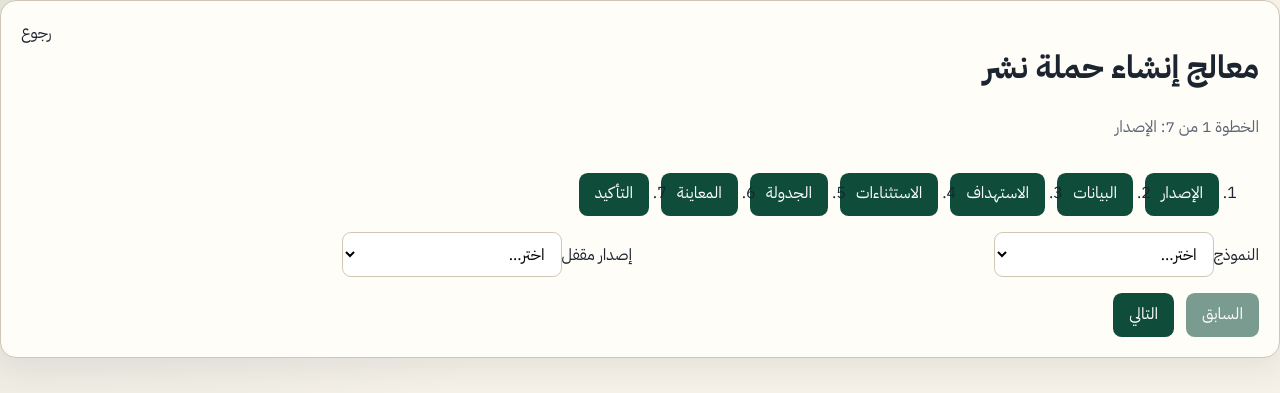
Scenario: FormCampaignWizardPage accessibility › exposes accessible names for step 1 inputs
Click the button "التالي" at (1144, 315), box [1113, 293, 1174, 337]
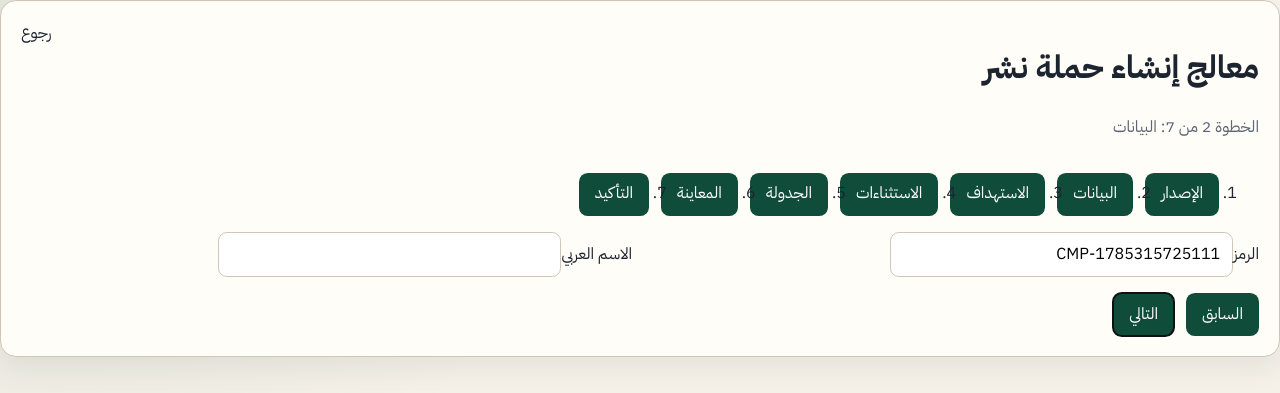
Expected: the field labelled "الرمز" is shown, [890, 232, 1233, 277]
Expected: the field labelled "الاسم العربي" is shown, [218, 232, 562, 277]
